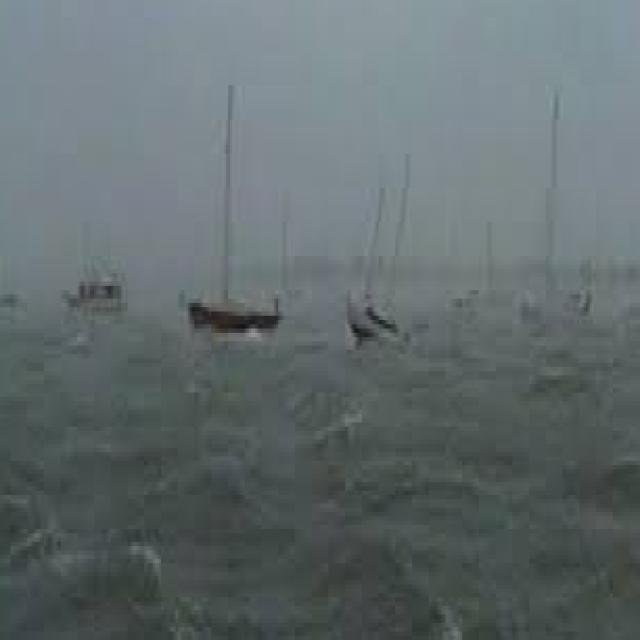fishing boat: (187, 231, 285, 332), (0, 154, 36, 307), (341, 270, 408, 340), (66, 249, 120, 323)
